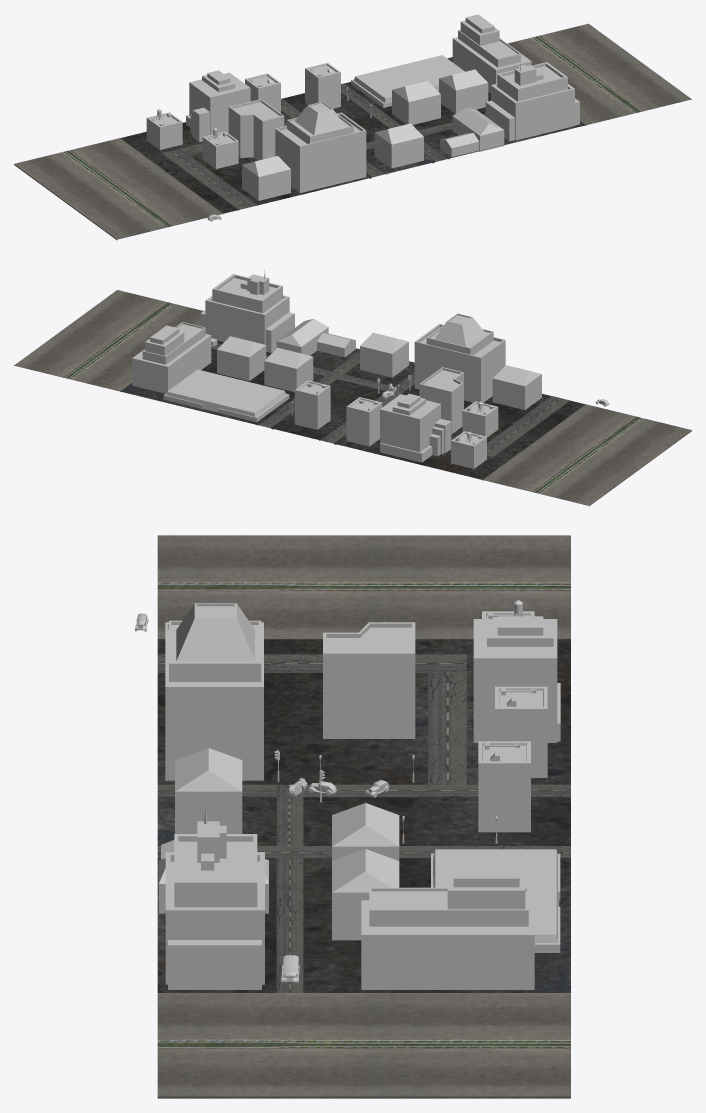
File: Block_03.fbx
3 renders of one model, top to bottom at view 1: azimuth 30°, elevation 25°; view 2: azimuth 150°, elevation 25°; view 3: azimuth 270°, elevation 25°, orthographic. The views are drawn at different scales.
Visible parts, largest first — view 1: pasted__polySurface1338; view 2: pasted__polySurface1338; view 3: pasted__polySurface1338.
Boxes of the visible parts, bbox=[...] form: pasted__polySurface1338: bbox=[14, 14, 691, 240]; pasted__polySurface1338: bbox=[14, 270, 691, 506]; pasted__polySurface1338: bbox=[135, 535, 570, 1098].
Size of the model in its own units: 459 by 151 by 55.11.
